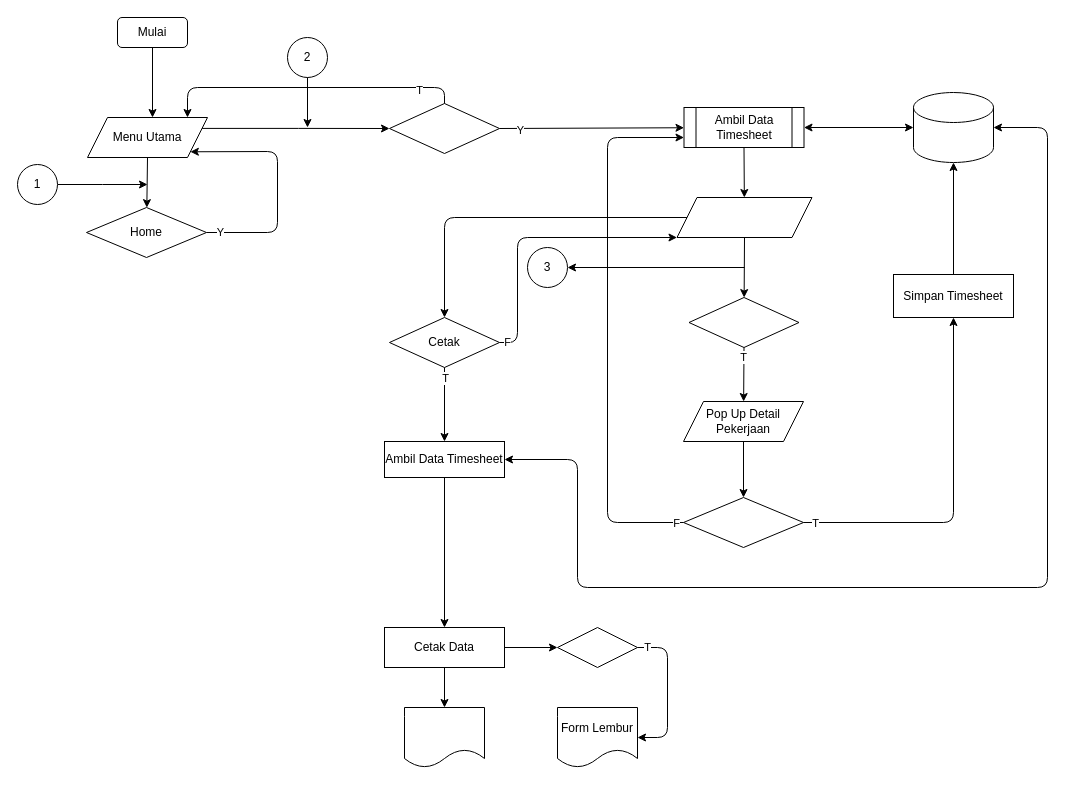
Image size: 1074x785. Some labels were removed from this diagram. The shapes that lost their labels are listed below. From the top down, each one's box as (x1, y1, x2, y2) in pixels, then its label:
(388, 102, 500, 154): Menu Timesheet
(912, 92, 994, 162): Database System
(676, 196, 812, 238): Halaman Timesheet
(688, 296, 799, 348): Add Detail
(682, 496, 804, 548): Simpan
(556, 626, 638, 668): Lembur
(404, 706, 484, 768): Timesheet
